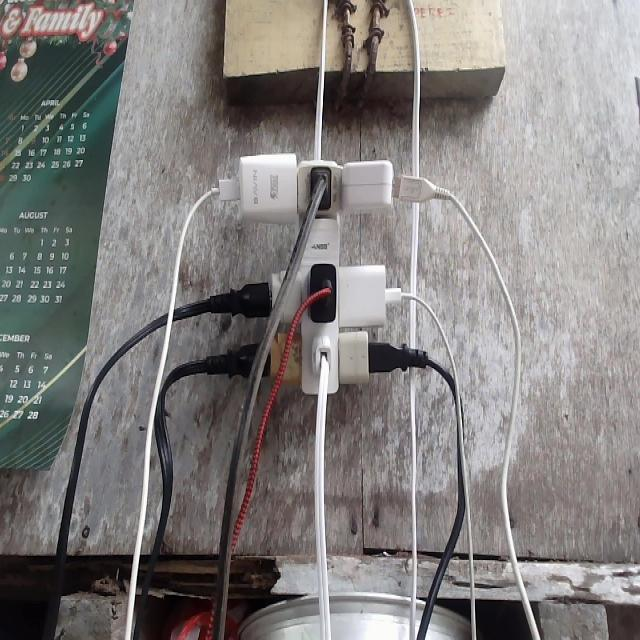-: (206, 146, 445, 398)
